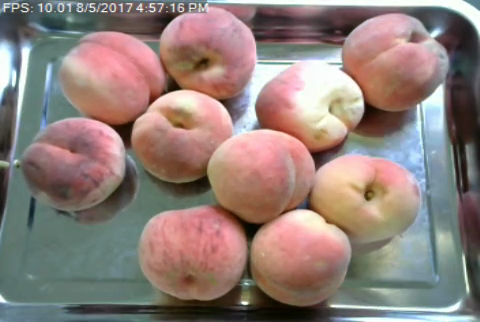Peach: (340, 11, 448, 113), (138, 206, 248, 300), (307, 155, 422, 244), (254, 59, 365, 151), (21, 117, 128, 211), (206, 129, 314, 222), (57, 30, 160, 127), (250, 208, 351, 305), (134, 87, 233, 183), (159, 6, 256, 99)
